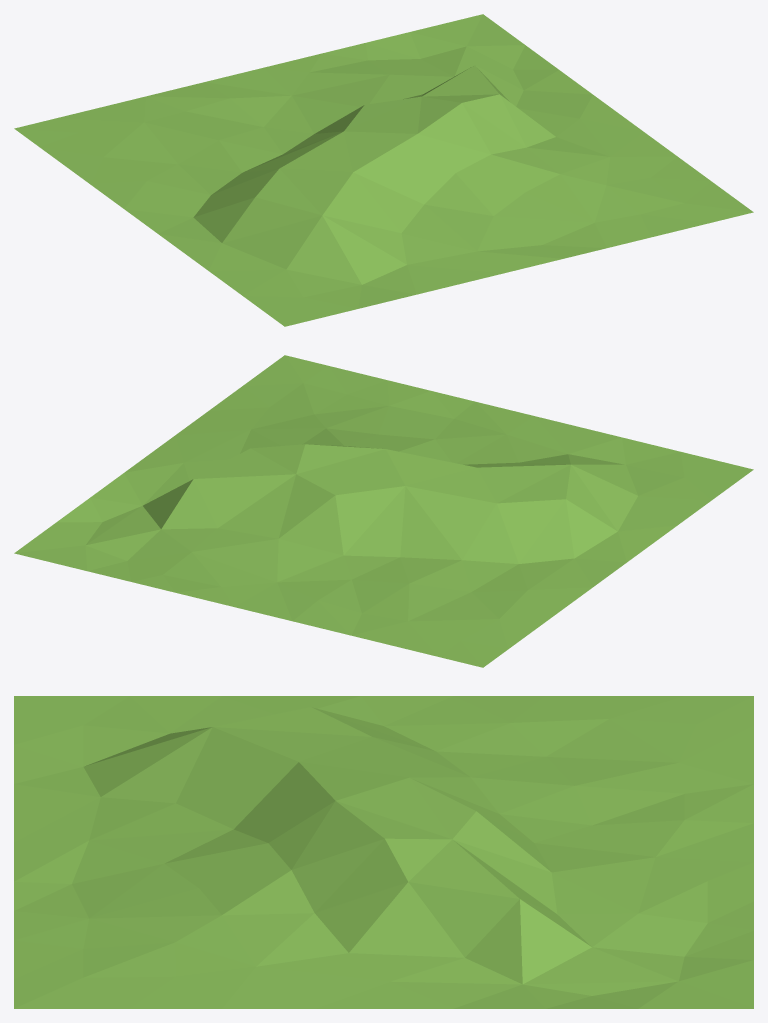
Rendered from MT_Terrain_S_c_13_LOD.fbx.
The picture shows the model from 3 angles, top to bottom: view 1: azimuth 30°, elevation 25°; view 2: azimuth 150°, elevation 25°; view 3: azimuth 270°, elevation 25°; orthographic projection. The views are drawn at different scales.
Parts seen in each view (by area): view 1: MT_Terrain_S_c_13_LOD0; view 2: MT_Terrain_S_c_13_LOD0; view 3: MT_Terrain_S_c_13_LOD0.
Part boxes in pixels (x1=…): MT_Terrain_S_c_13_LOD0: x1=14, y1=14, x2=753, y2=326; MT_Terrain_S_c_13_LOD0: x1=14, y1=355, x2=753, y2=667; MT_Terrain_S_c_13_LOD0: x1=14, y1=696, x2=753, y2=1008.
Size of what is drawn, in the model's own units: 2500 by 271 by 2500.
